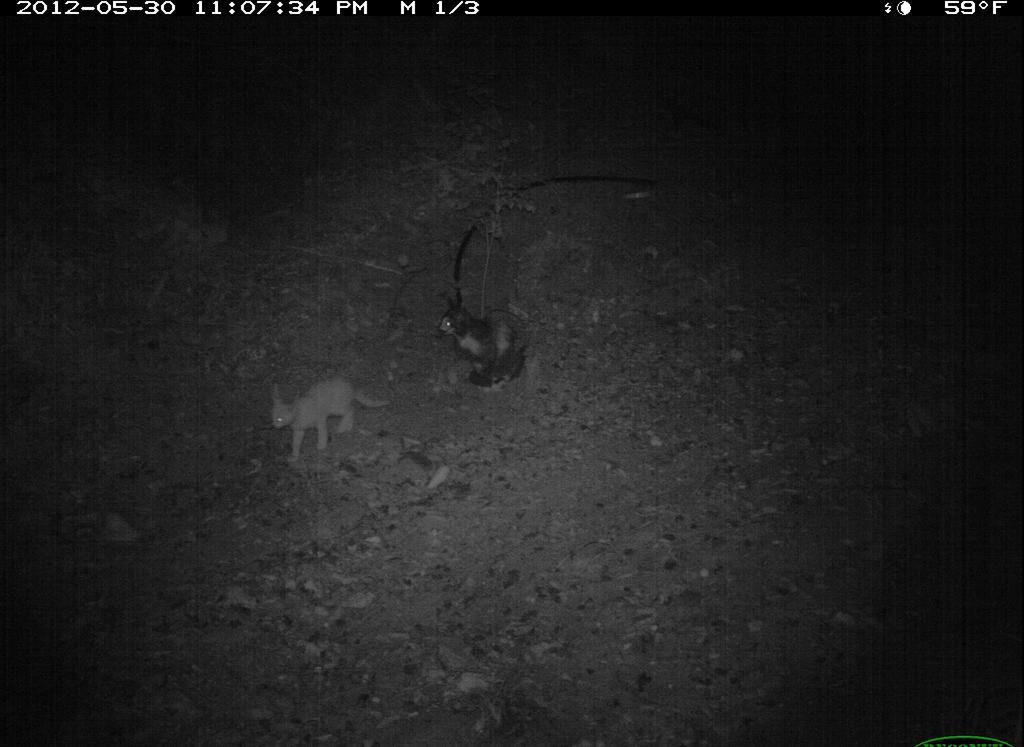cat: (262, 360, 392, 469), (427, 283, 542, 399)
